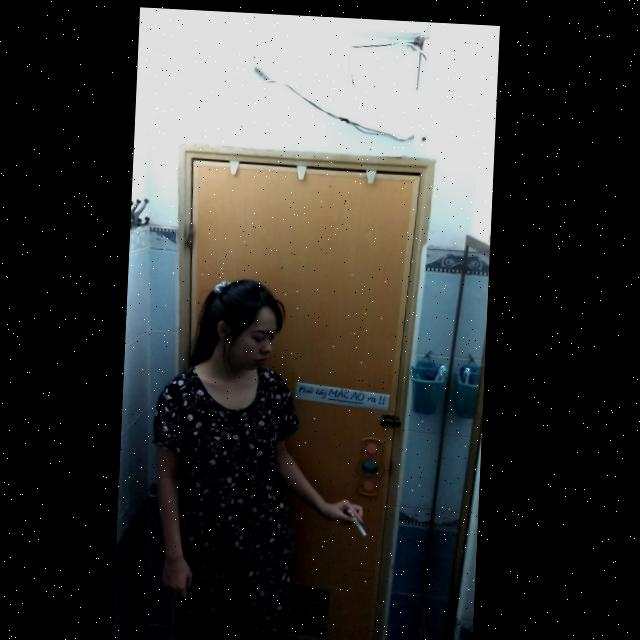cigarette: (352, 505, 373, 532)
